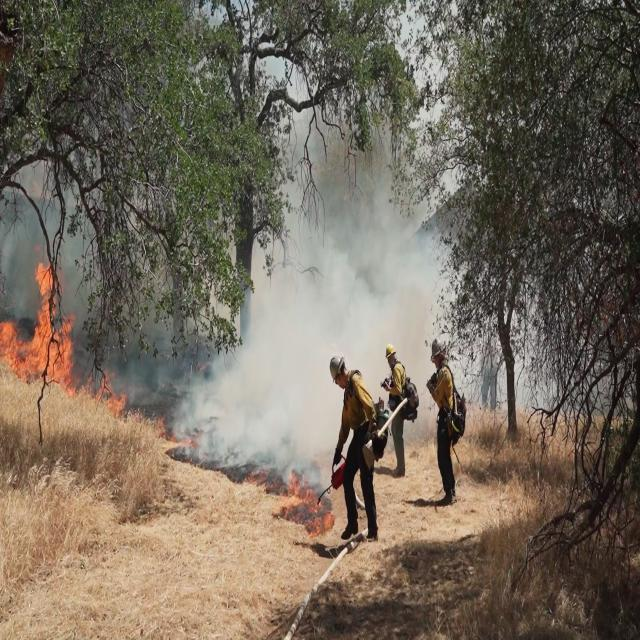Fire: (0, 256, 80, 386), (74, 366, 130, 422)
Smoke: (181, 118, 447, 482)
